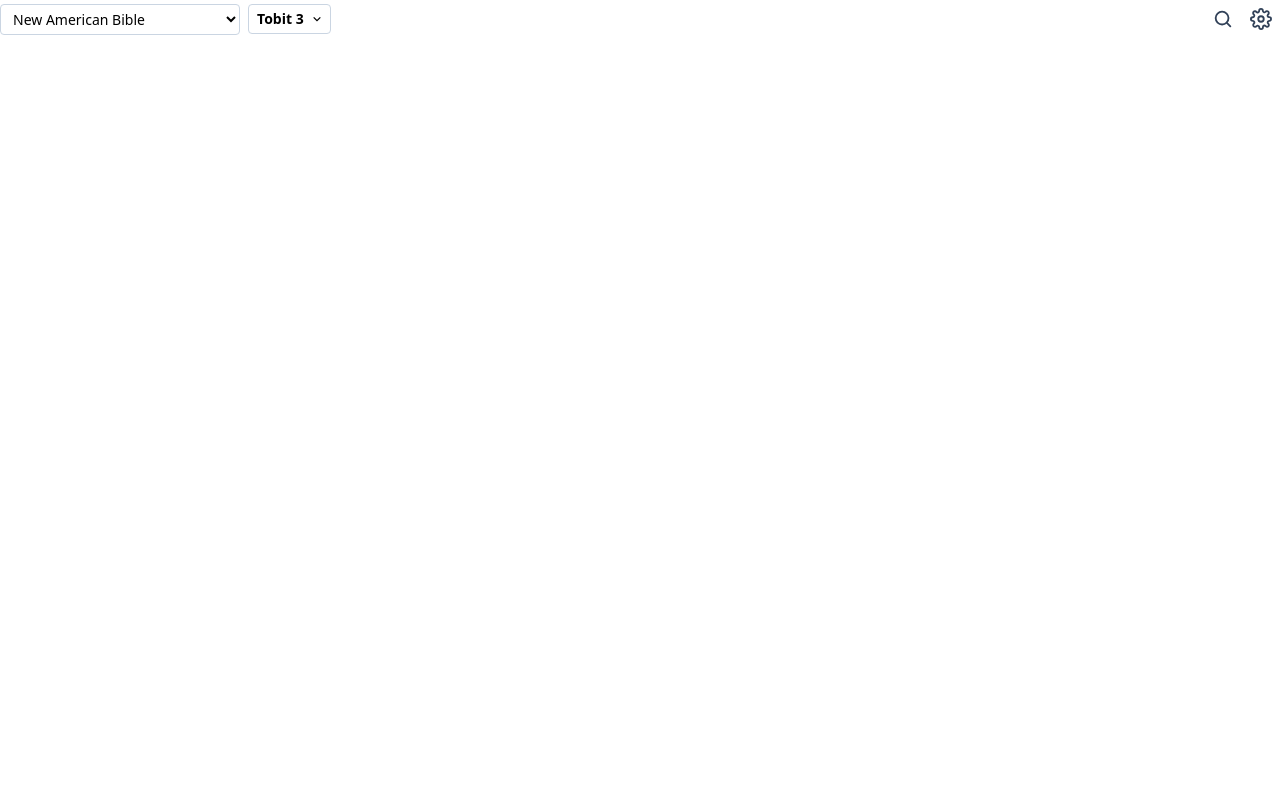
loading overlay › coversTheReaderUntilTheNewChapterArrives
The width and height of the screenshot is (1280, 800).
Click the button with aria-label "Go to another book or chapter" at (289, 19), box [248,4,331,34]
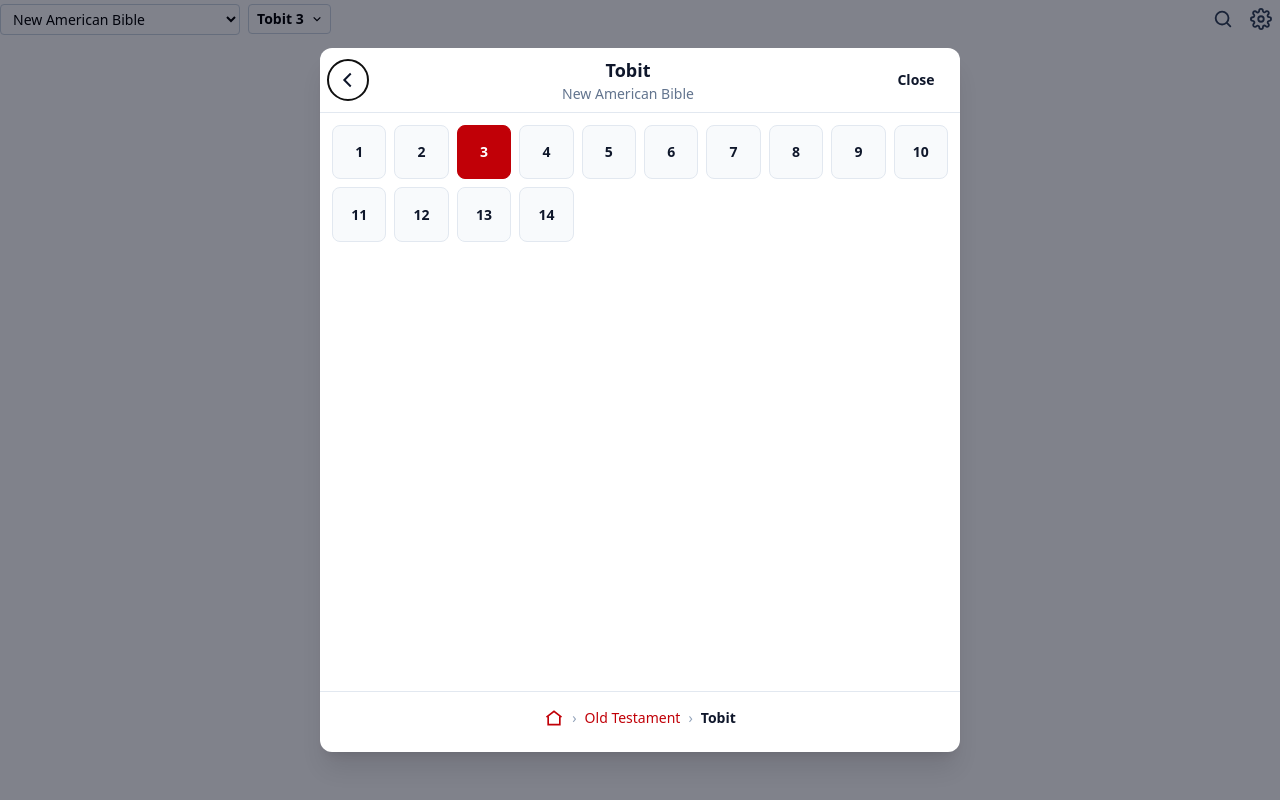
Click the link "4" at (546, 152), box [519,125,574,179]
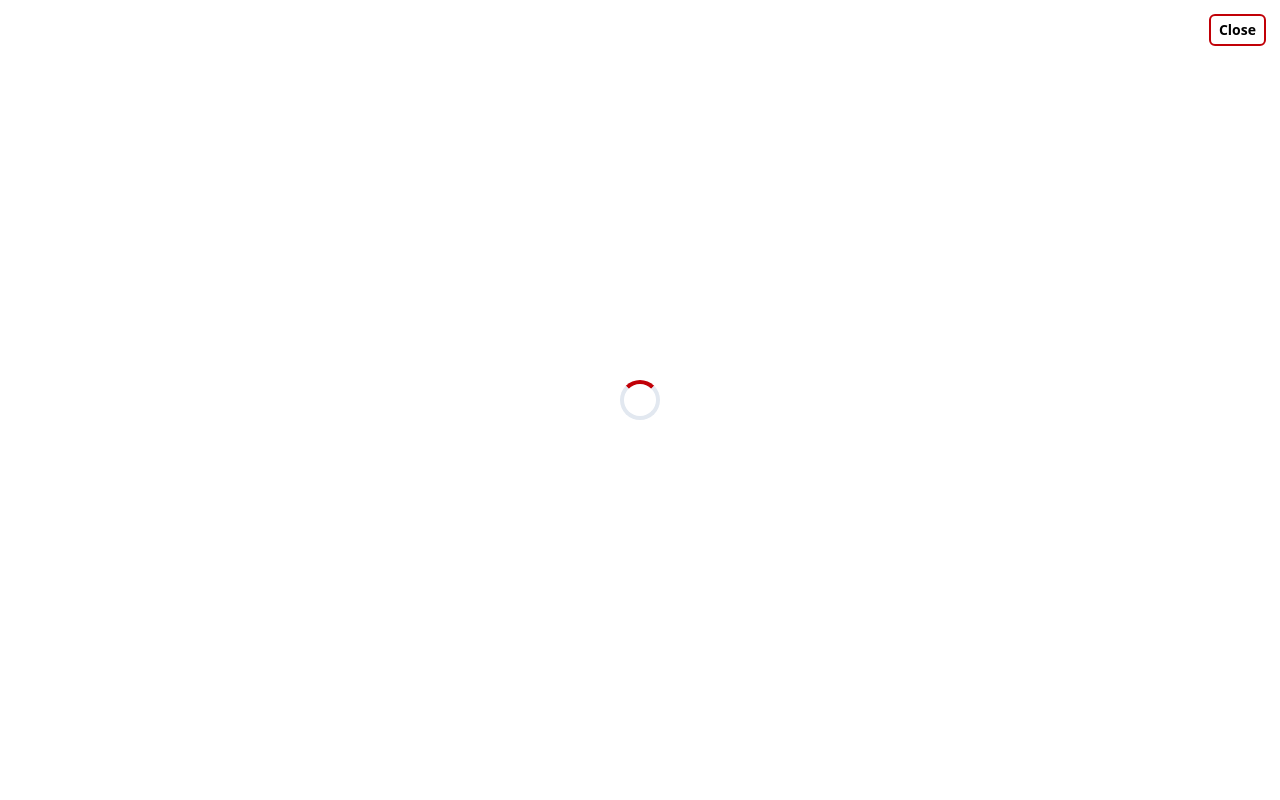
Now the message named "Loading" is shown, box [620,380,660,420]
